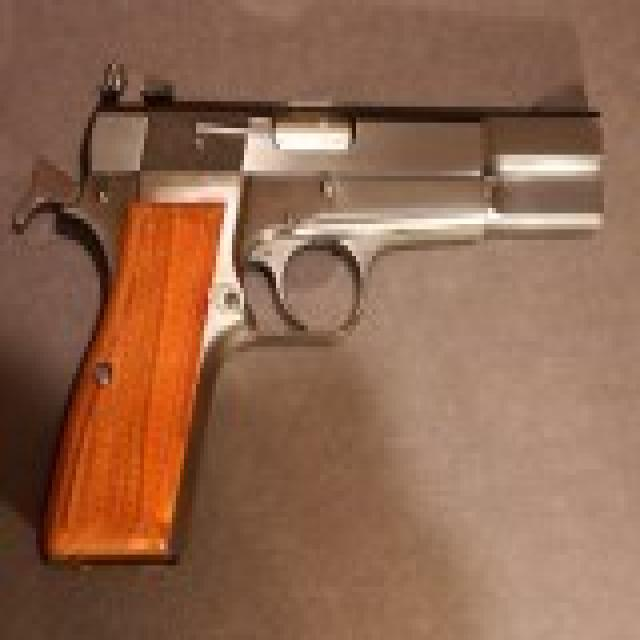Gun: (23, 54, 614, 578)
